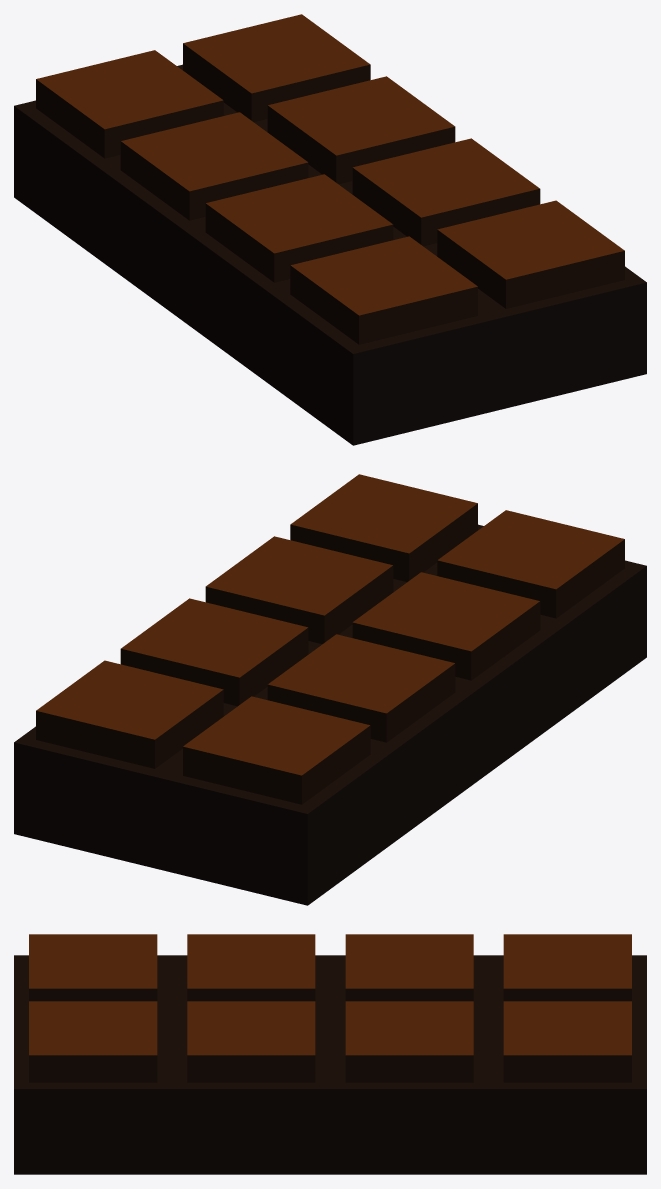
The model's file is Chocola.FBX.
3 views of the same model, one above another, from view 1: azimuth 30°, elevation 25°; view 2: azimuth 150°, elevation 25°; view 3: azimuth 270°, elevation 25° (orthographic). The views are drawn at different scales.
Parts seen in each view (by area): view 1: Chocola; view 2: Chocola; view 3: Chocola.
Boxes of the visible parts, x1,y1,x2,y2 form: Chocola: (14, 14, 646, 445); Chocola: (14, 474, 646, 905); Chocola: (14, 934, 646, 1174).
Size of the model in its own units: 30 by 11.79 by 60.
